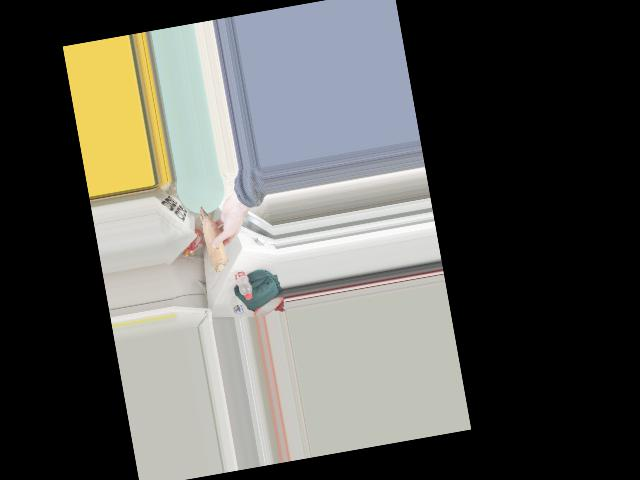sweet_potato: (199, 204, 227, 269)
